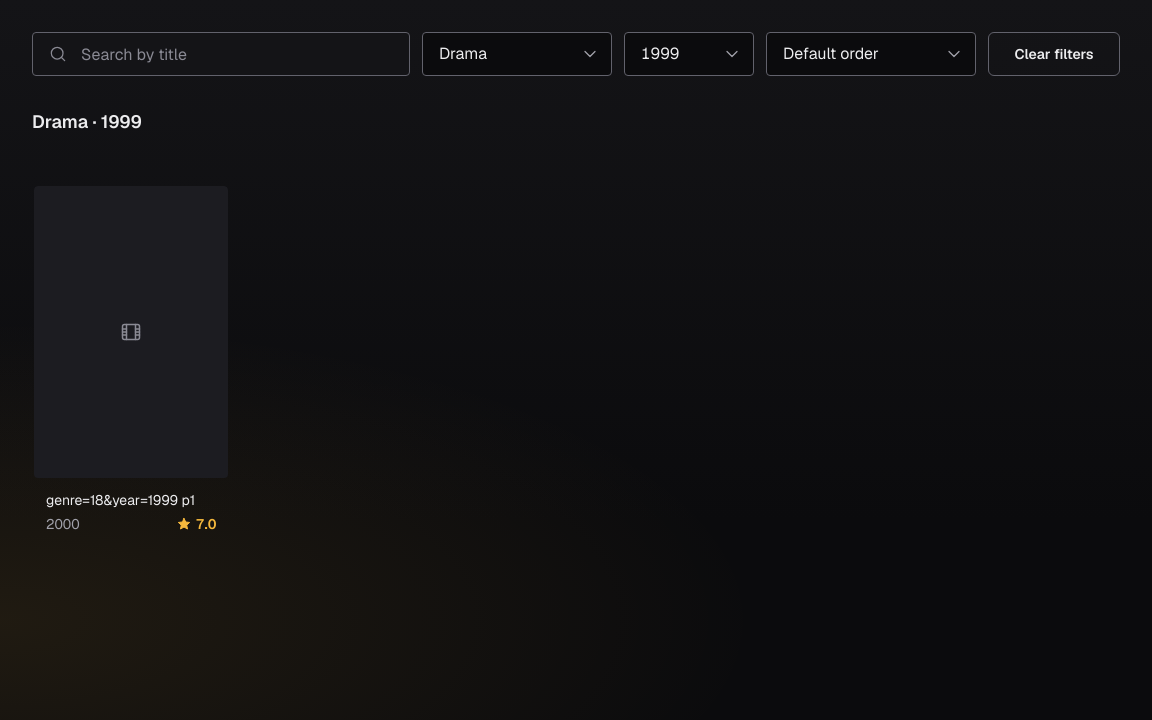
Test: ExplorerClient — clear filters › is visible with a filter or a search, and clears everything in one action (RF-17)
Expected: the heading "genre=18&year=1999 p1" is shown, [46, 490, 216, 510]
Step 1. Click the button "Clear filters" → (1054, 54), box [988, 32, 1120, 76]
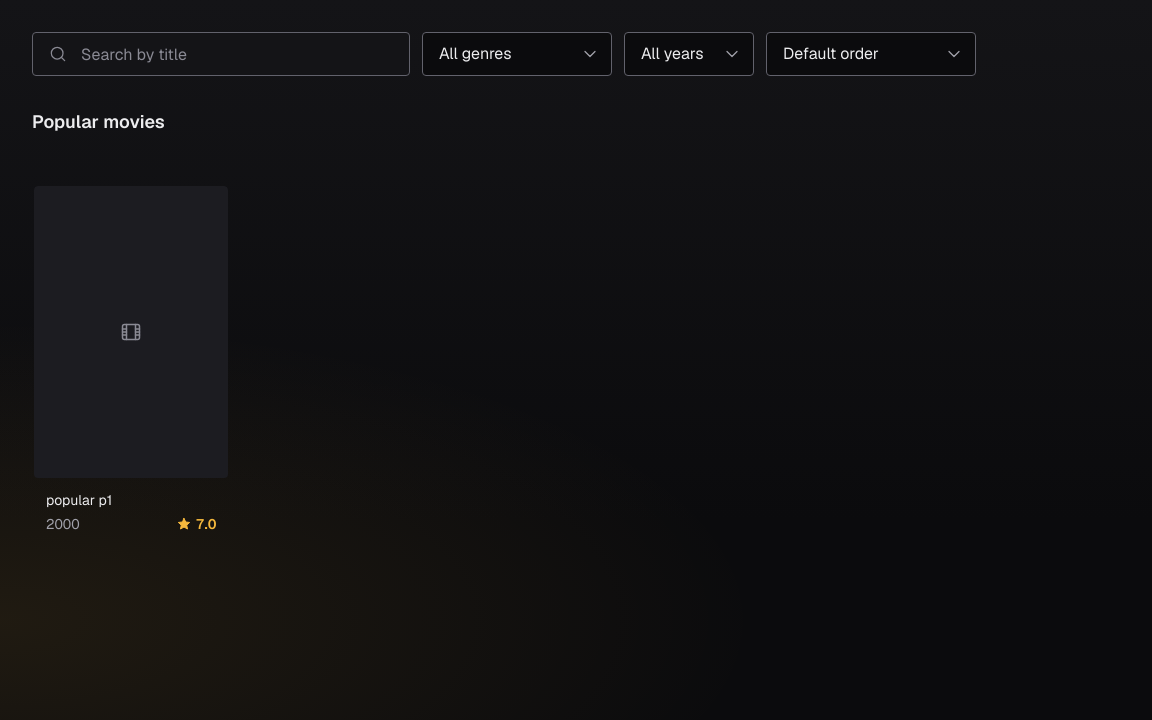
Expected: the heading "popular p1" is shown, [46, 491, 112, 509]
Expected: the 1st dropdown named "Genre" shows "All genres", [422, 32, 612, 76]
Expected: the 2nd dropdown named "Year" shows "All years", [624, 32, 754, 76]
